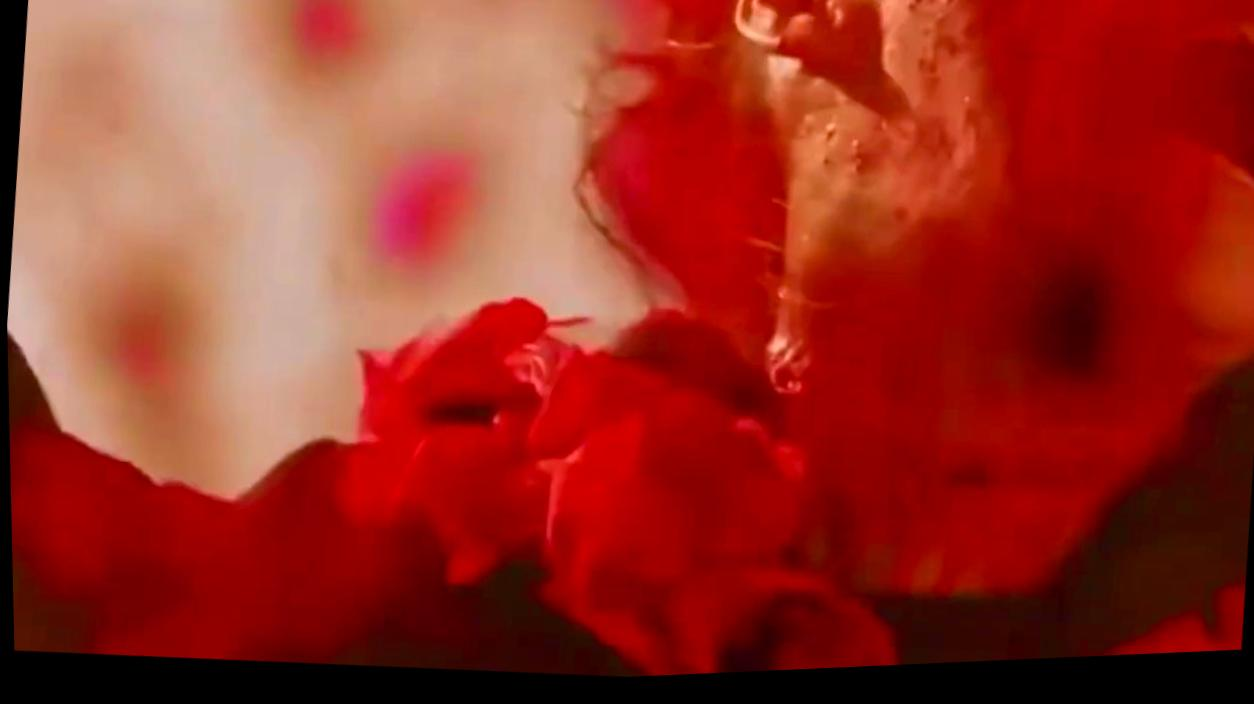Fire: (6, 0, 1254, 683), (364, 142, 485, 278), (85, 264, 194, 398), (278, 0, 379, 85)
